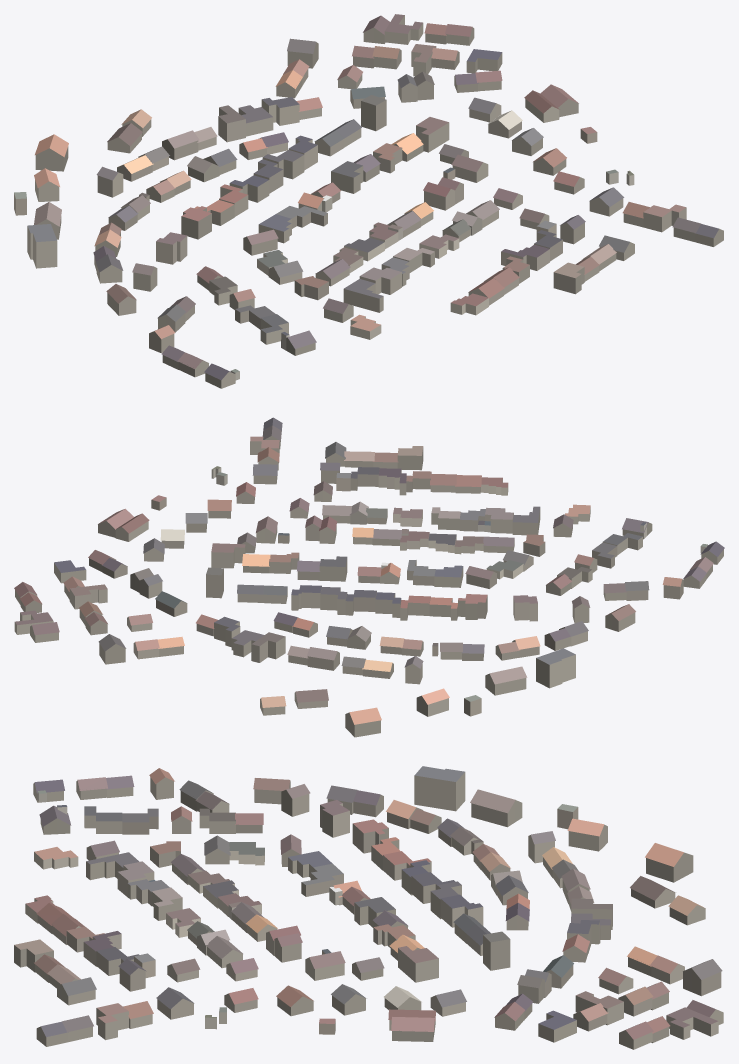
3 views of the same model, one above another, from view 1: azimuth 30°, elevation 25°; view 2: azimuth 150°, elevation 25°; view 3: azimuth 270°, elevation 25° (orthographic). The views are drawn at different scales.
Parts seen in each view (by area): view 1: tuile; view 2: tuile; view 3: tuile.
Part boxes in pixels (bbox=[...]): tuile: bbox=[14, 14, 723, 388]; tuile: bbox=[14, 417, 724, 737]; tuile: bbox=[14, 766, 723, 1049].
Size of the model in its own units: 255 by 27.58 by 261.
